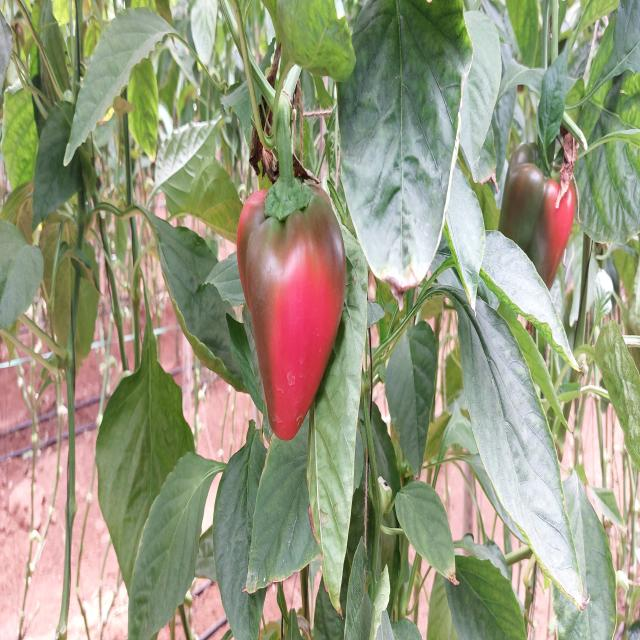BrownishRed--Can-be-Harvested: (235, 180, 347, 442), (499, 142, 572, 302)
